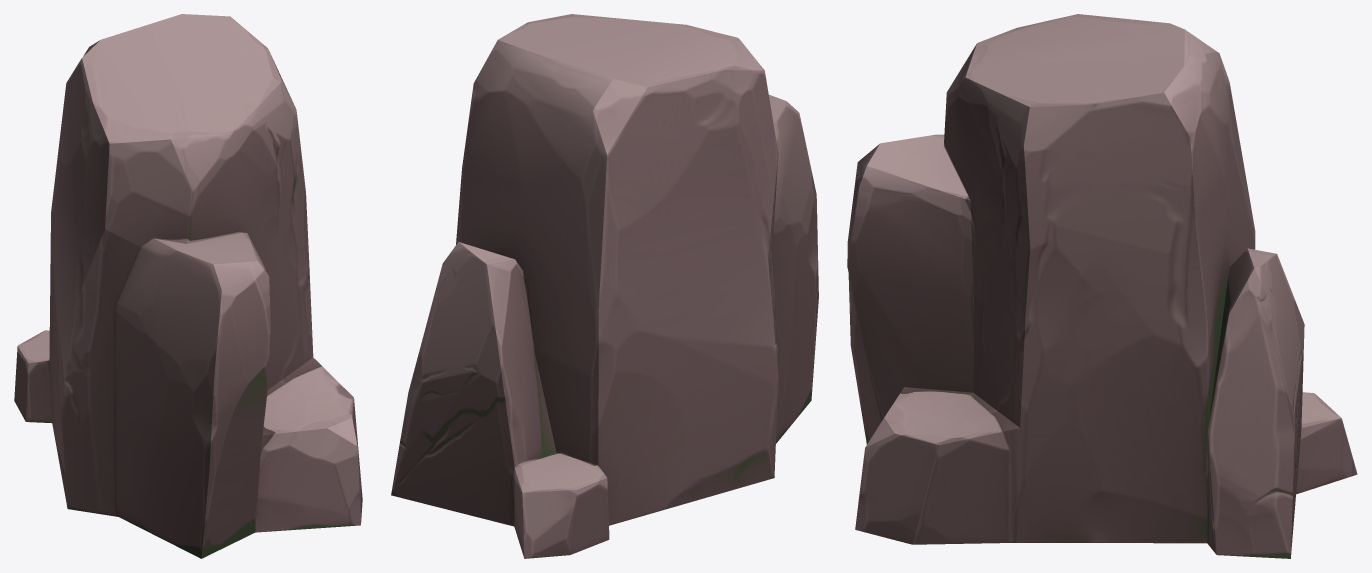
Rendered from rock.obj.
The picture shows the model from 3 angles, left to right: view 1: azimuth 30°, elevation 25°; view 2: azimuth 150°, elevation 25°; view 3: azimuth 270°, elevation 25°; orthographic projection. The views are drawn at different scales.
Parts seen in each view (by area): view 1: lp2_Material_0; view 2: lp2_Material_0; view 3: lp2_Material_0.
Part boxes in pixels (<box>): lp2_Material_0: <box>14,14,362,558</box>; lp2_Material_0: <box>391,14,818,558</box>; lp2_Material_0: <box>847,14,1357,558</box>.
Bounding box in the file's own units: 0.3818 × 0.5671 × 0.5848.
